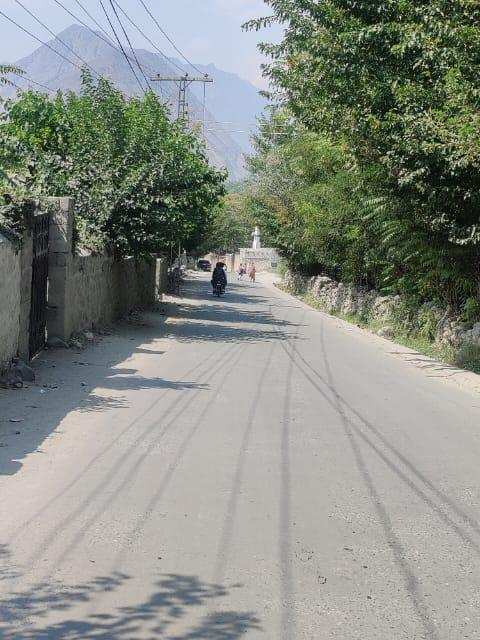sharp_turn: (146, 213, 386, 640)
